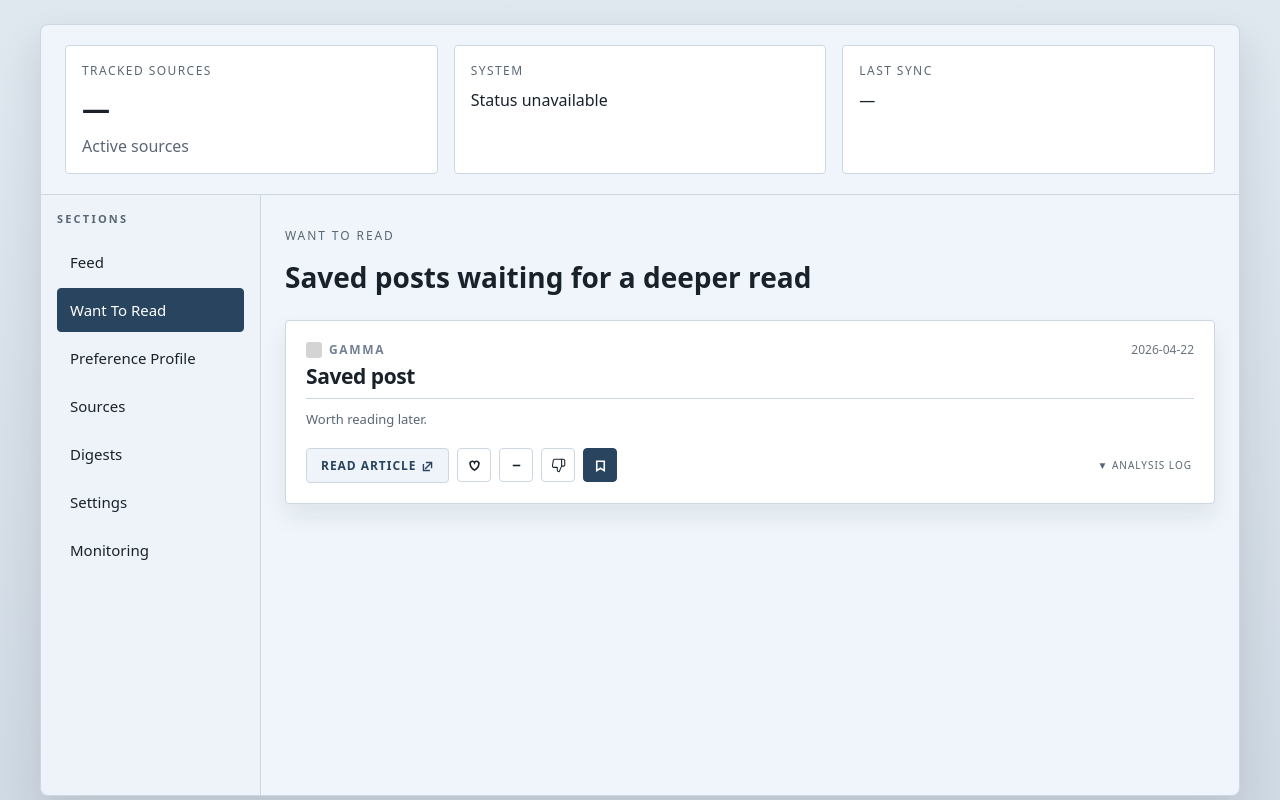
Scenario: app shell lands directly on want to read for deep-link paths
This screenshot has width=1280, height=800.
Expected: the heading "Saved post" is shown, [306, 364, 415, 388]
Click the button "Feed" at (150, 262), box [57, 240, 244, 284]
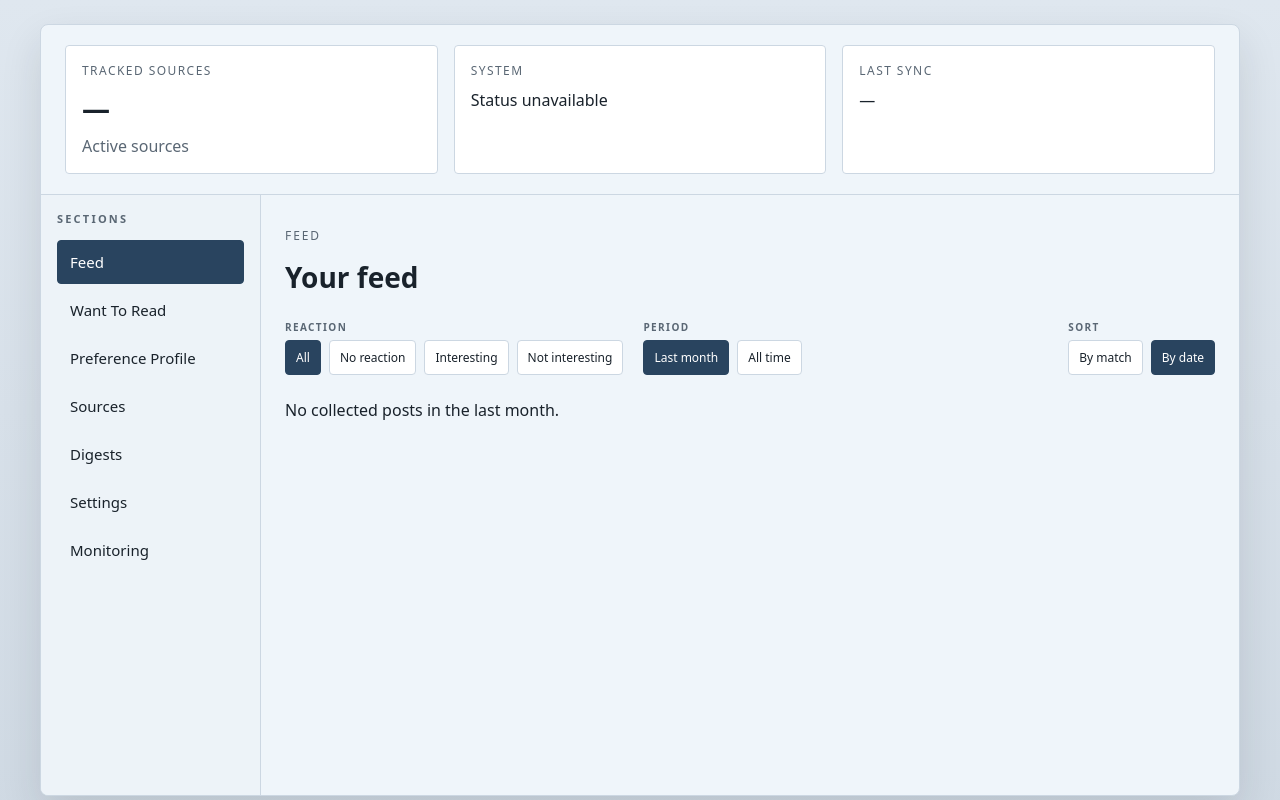
Expected: the text "No collected posts in the last month." is shown, [285, 399, 559, 421]
